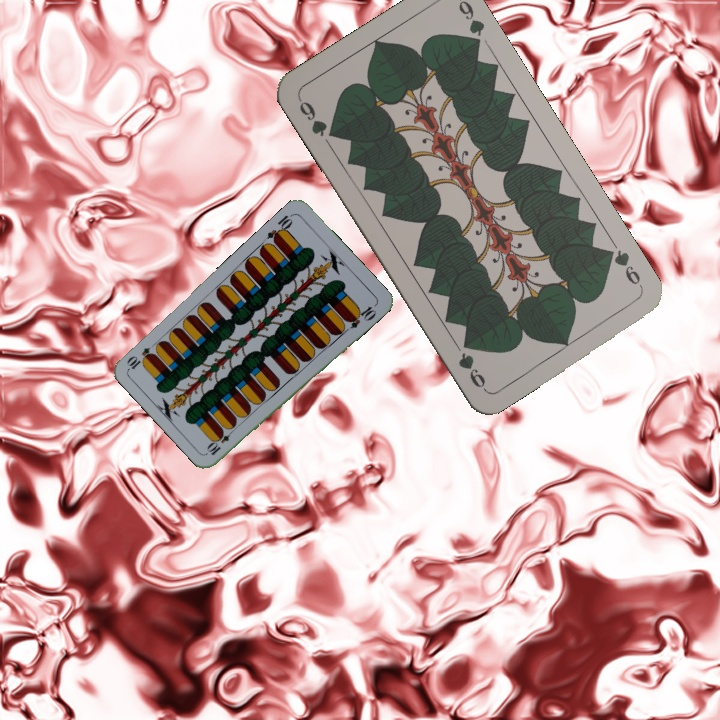E10: (203, 424, 237, 458), (263, 210, 296, 245)
G9: (294, 94, 340, 141), (600, 245, 646, 292)
